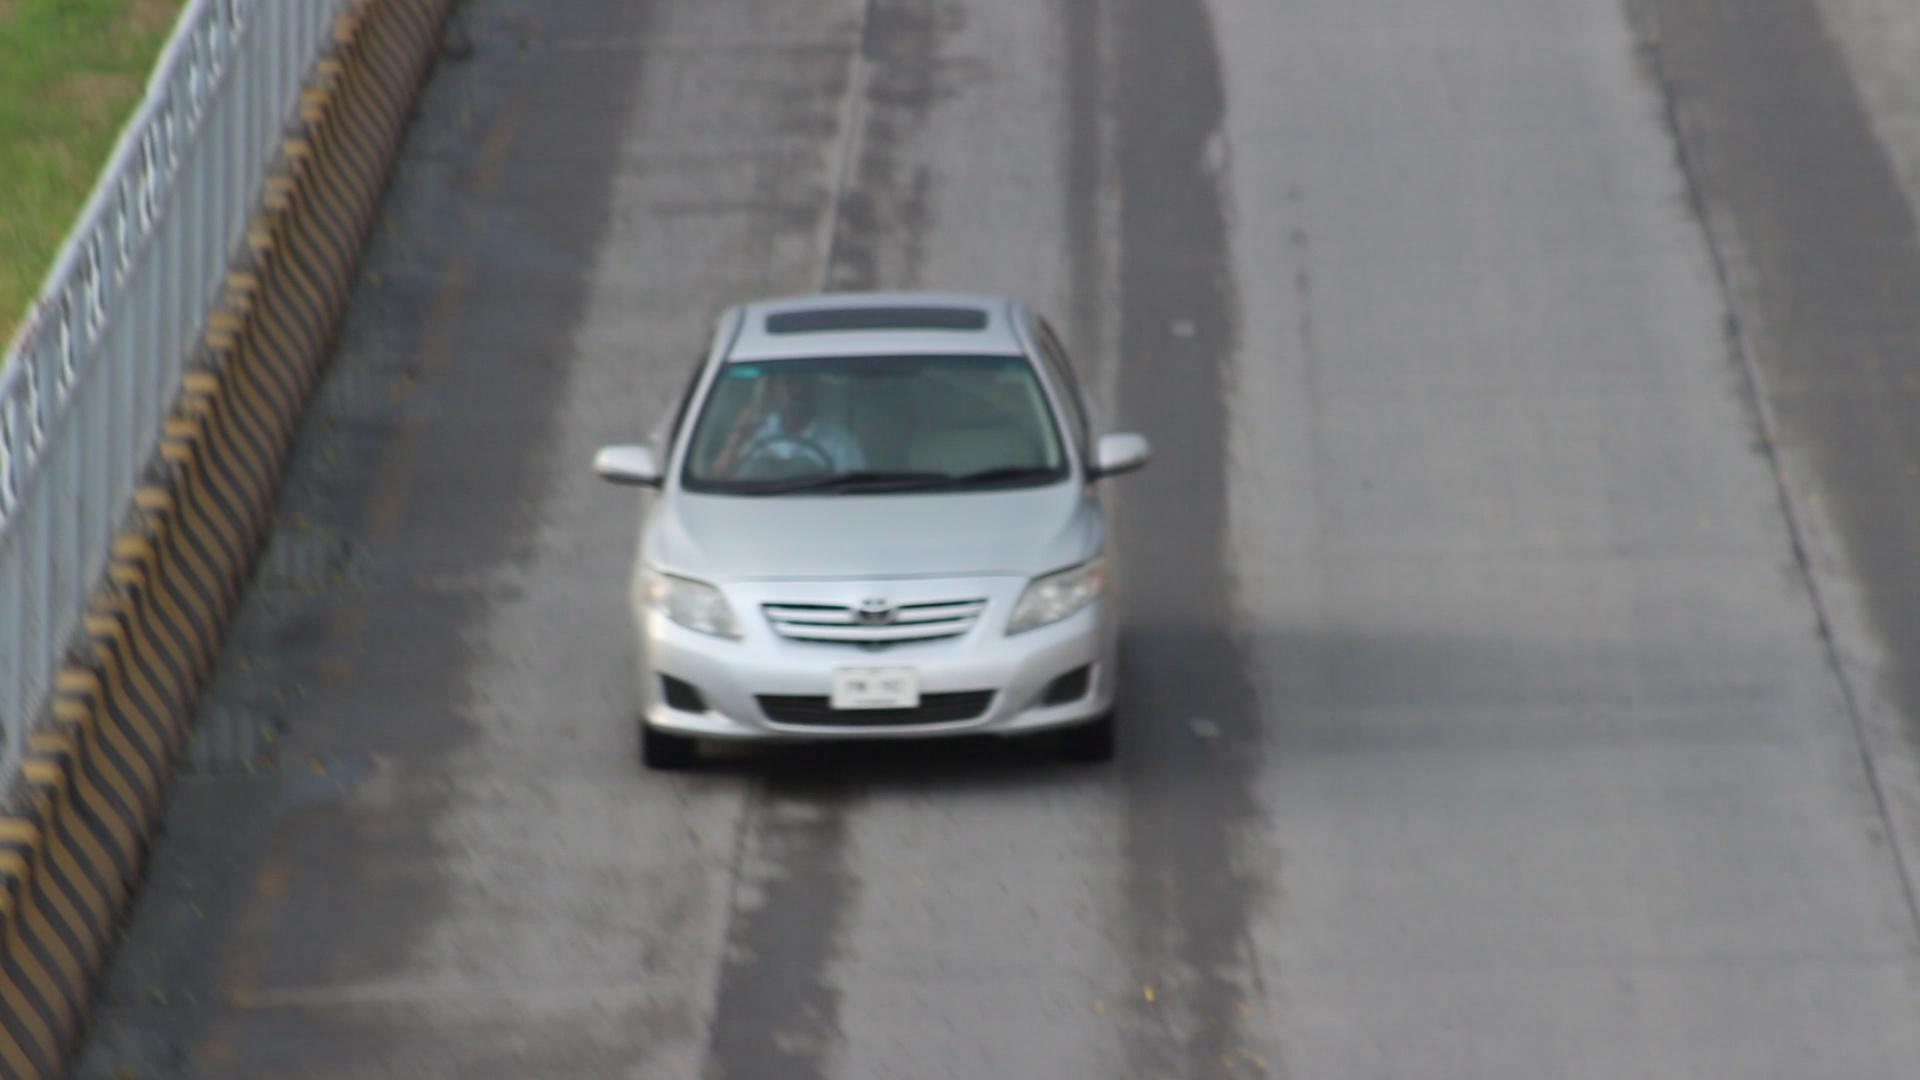windshield: (678, 336, 1080, 487)
